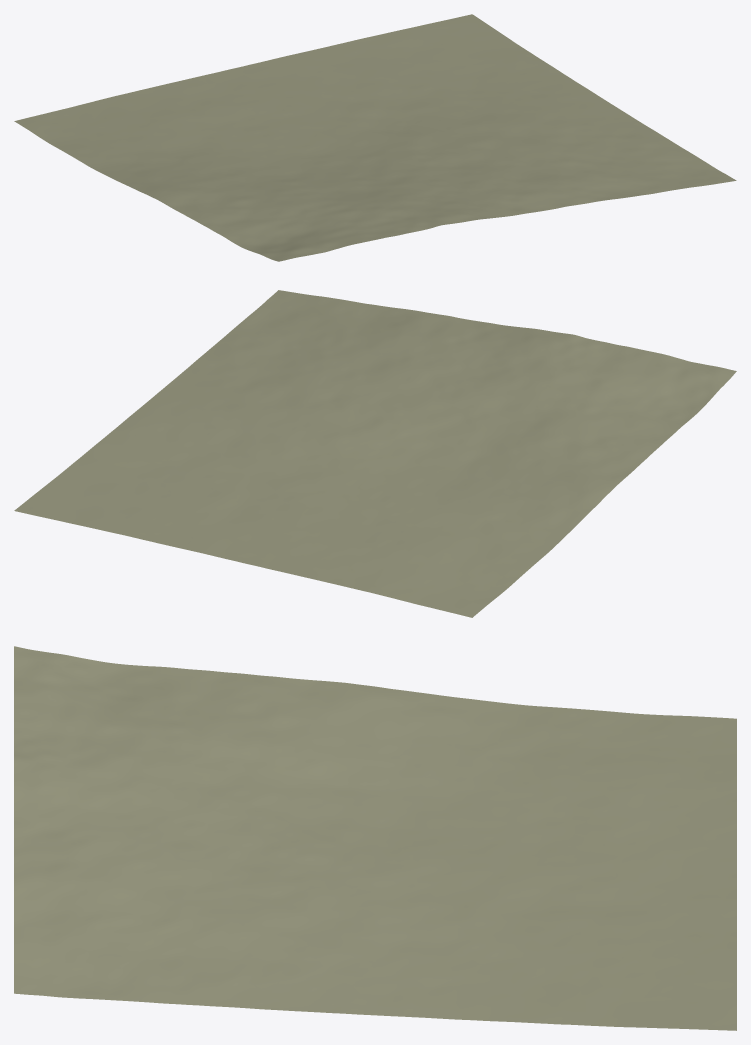
File: SM_VB_CityTerrain_10_4.fbx
3 views of the same model, one above another, from view 1: azimuth 30°, elevation 25°; view 2: azimuth 150°, elevation 25°; view 3: azimuth 270°, elevation 25° (orthographic). The views are drawn at different scales.
Parts seen in each view (by area): view 1: SM_VB_CityTerrain_10_4; view 2: SM_VB_CityTerrain_10_4; view 3: SM_VB_CityTerrain_10_4.
Part boxes in pixels (x1,y1,x2,y2): SM_VB_CityTerrain_10_4: (14, 14, 736, 261); SM_VB_CityTerrain_10_4: (14, 290, 736, 617); SM_VB_CityTerrain_10_4: (14, 646, 736, 1030).
Bounding box in the file's own units: 600 × 72.48 × 600.
